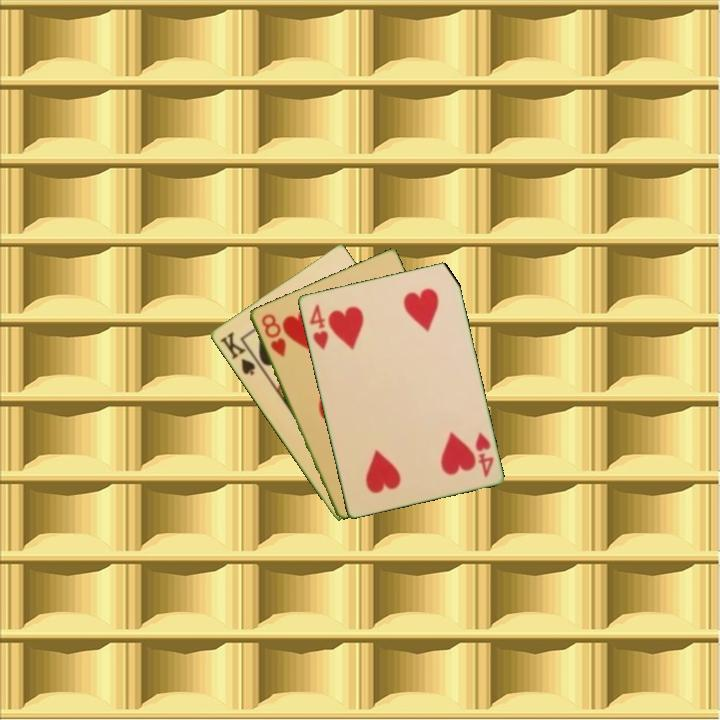4h: (306, 300, 331, 352), (471, 429, 496, 480)
8h: (257, 310, 289, 360)
Ks: (216, 328, 258, 378)
